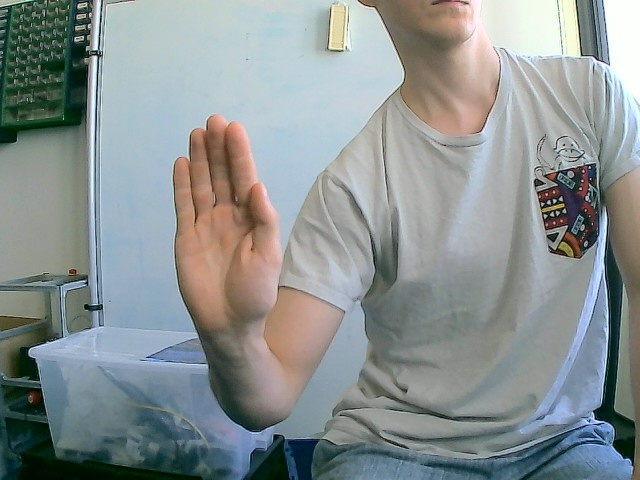stop: (171, 113, 284, 333)
